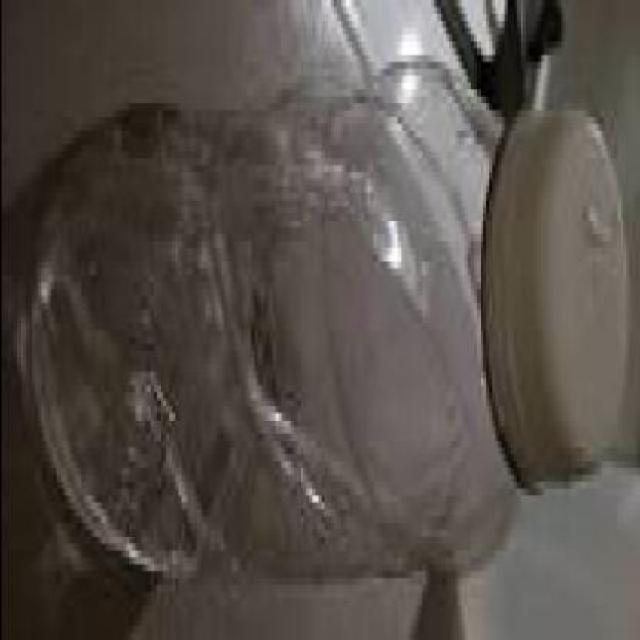plastic: (28, 55, 628, 572), (484, 97, 634, 489)
